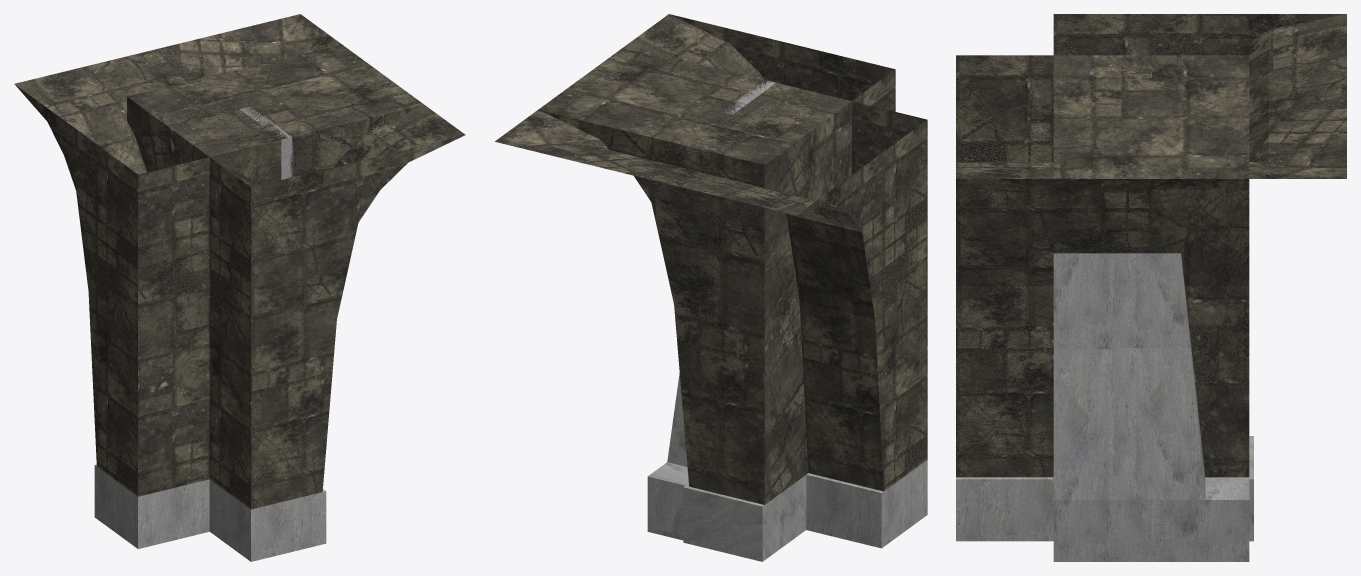
File: DungeonWalls.fbx
3 renders of one model, left to right at view 1: azimuth 30°, elevation 25°; view 2: azimuth 150°, elevation 25°; view 3: azimuth 270°, elevation 25°, orthographic. The views are drawn at different scales.
Visible parts, largest first — view 1: BasicWall_Curved_Corner, BasicWall_Curved, BasicWall_WithBraces, BasicWall_Corner, BasicWall_WithBraces_Corner; view 2: BasicWall_Curved_Corner, BasicWall_Curved, BasicWall_Corner, BasicWall_WithBraces, BasicWall_WithBraces_Corner, BasicWall; view 3: BasicWall_Curved_Corner, BasicWall_Curved, BasicWall_WithBraces, BasicWall_WithBraces_Corner, BasicWall_Corner.
Boxes of the visible parts, x1,y1,x2,y2 form: BasicWall_Curved_Corner: (14,14,465,561); BasicWall_Curved: (127,44,423,181); BasicWall_WithBraces: (127,89,294,187); BasicWall_Corner: (127,88,239,172); BasicWall_WithBraces_Corner: (169,102,281,186); BasicWall_Curved_Corner: (495,14,927,548); BasicWall_Curved: (538,46,851,559); BasicWall_Corner: (683,134,808,561); BasicWall_WithBraces: (647,80,851,540); BasicWall_WithBraces_Corner: (667,85,848,545); BasicWall: (704,83,851,502); BasicWall_Curved_Corner: (956,14,1346,541); BasicWall_Curved: (1053,55,1249,479); BasicWall_WithBraces: (1053,55,1249,561); BasicWall_WithBraces_Corner: (1053,55,1205,561); BasicWall_Corner: (1206,55,1253,541).
Size of the model in its own units: 400 by 500 by 400.
